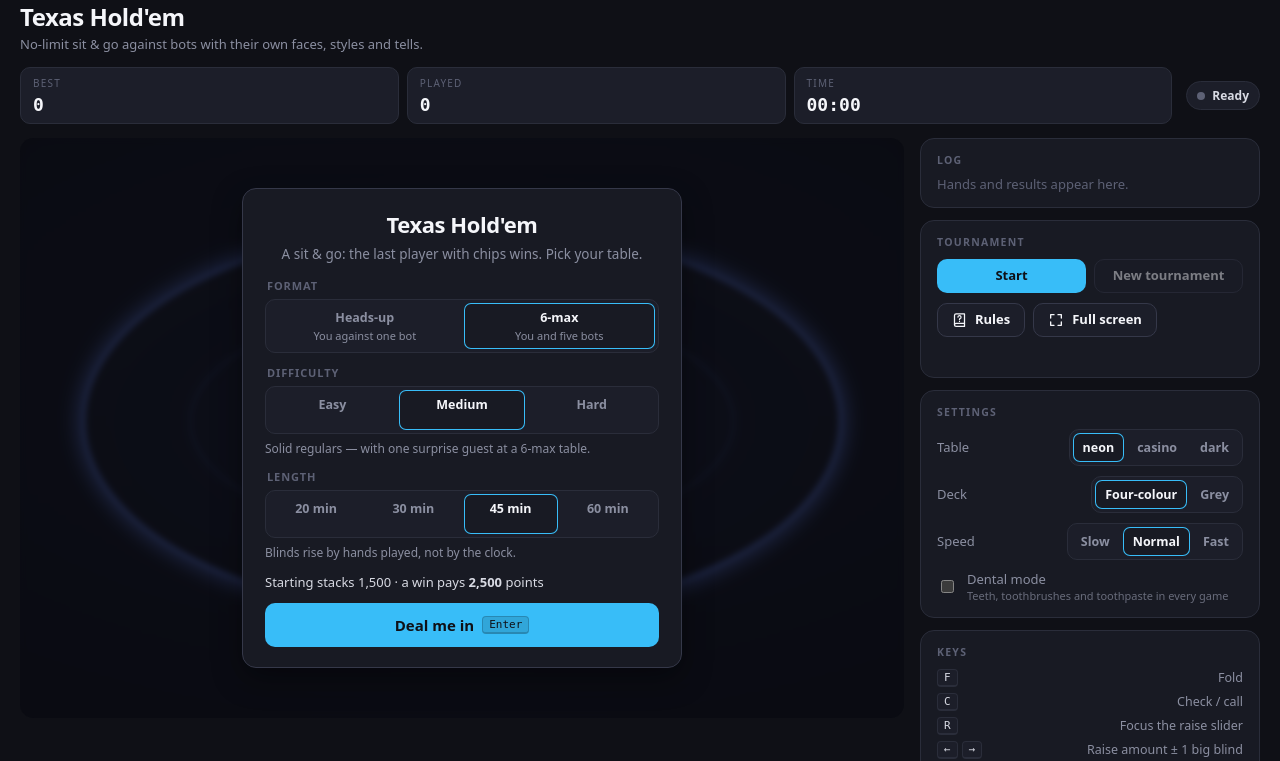
Scenario: <HoldemGame /> › pause stops the bots; P resumes
Click the button "Deal me in Enter" at (462, 625), box [265,603,659,647]
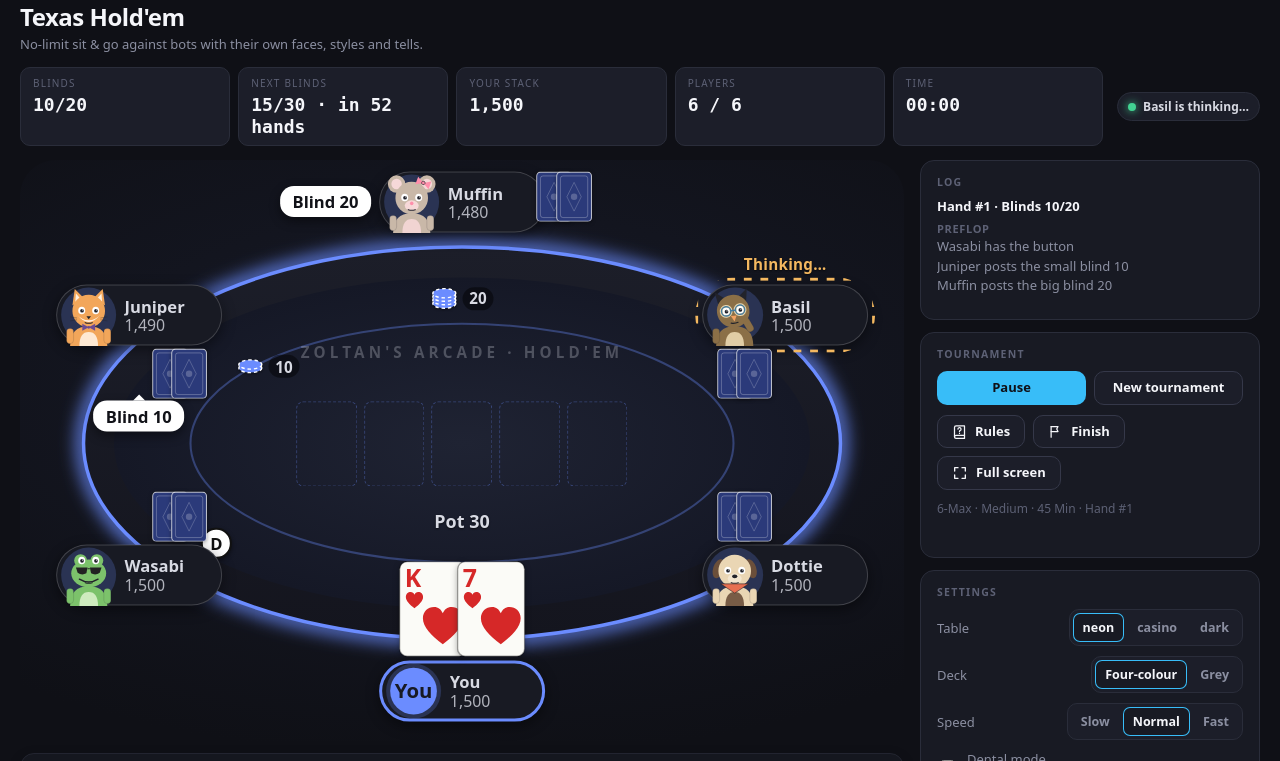
Press p
Wait 20000 ms
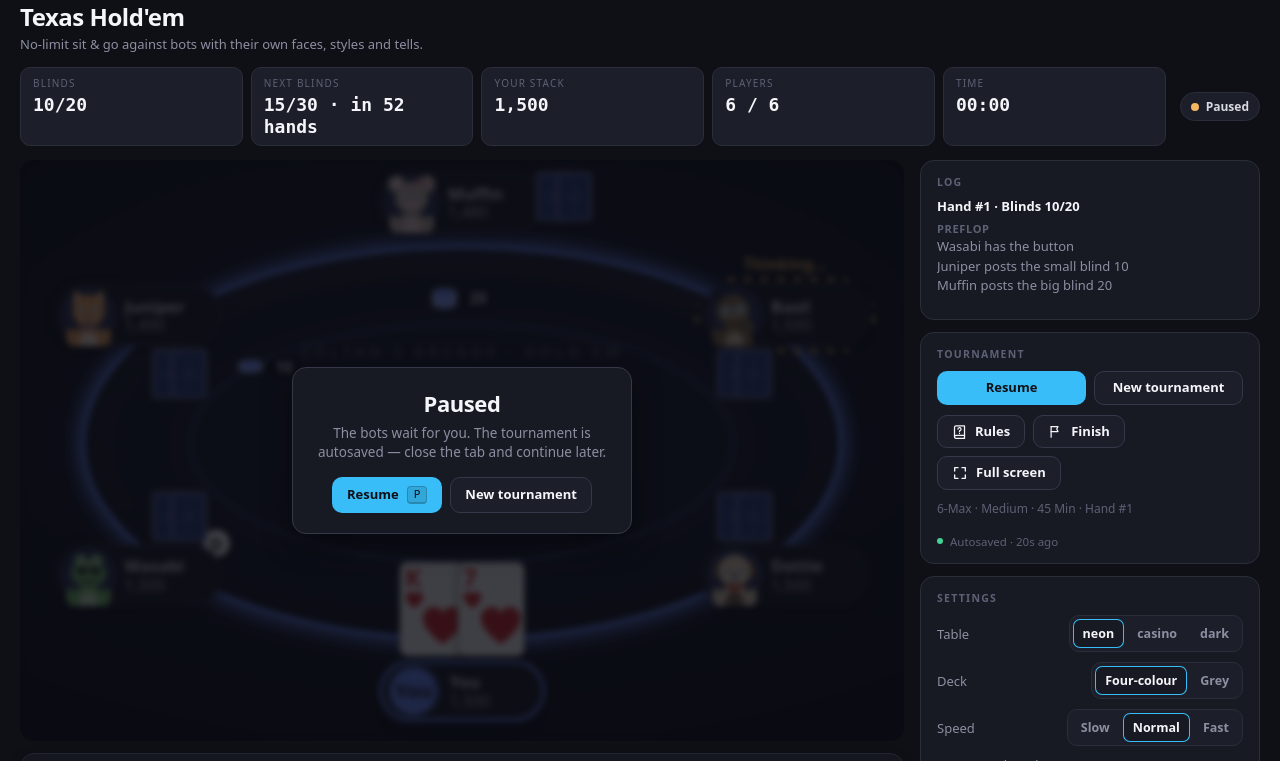
Check: the dialog "Paused" is shown, box [20,160,904,740]
Press p
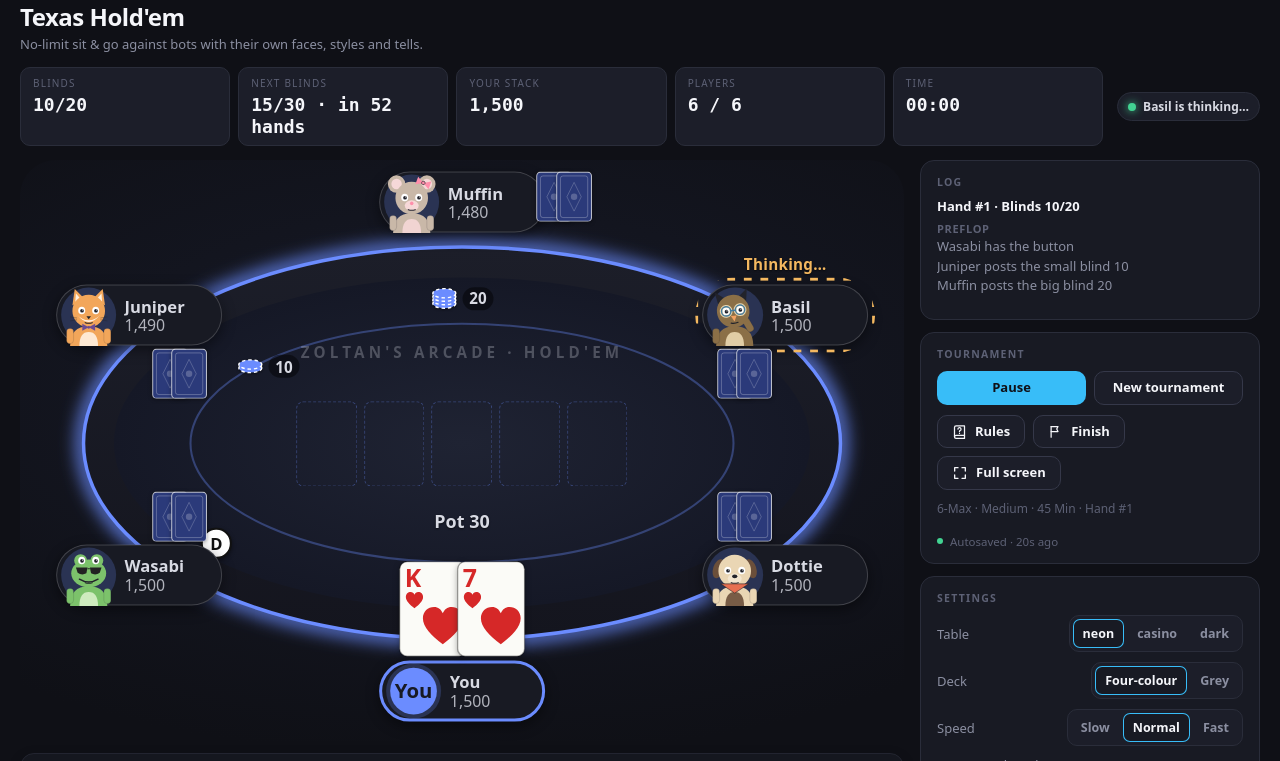
Check: the message "Paused" is gone
